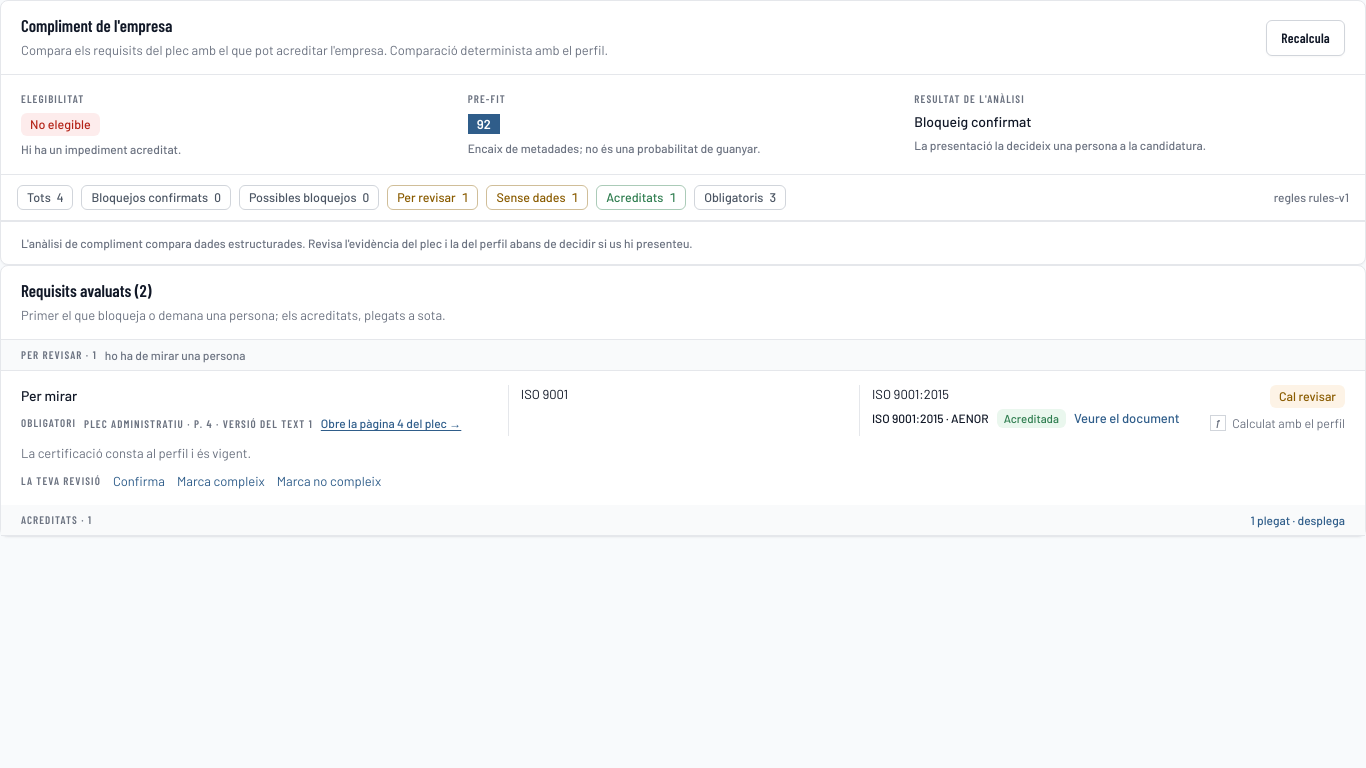
Test case: ComplianceSection · Pas 2: confirmats, possibles i revisions conservades › una confirmació que queda enrere perquè ara es compleix s'explica, però no compta ni es força a la vista
The width and height of the screenshot is (1366, 768).
expect the text "Ara es compleix" is not shown: met
Click the button "1 plegat · desplega".
click(1298, 520)  # box x1=1250 y1=511 x2=1345 y2=529
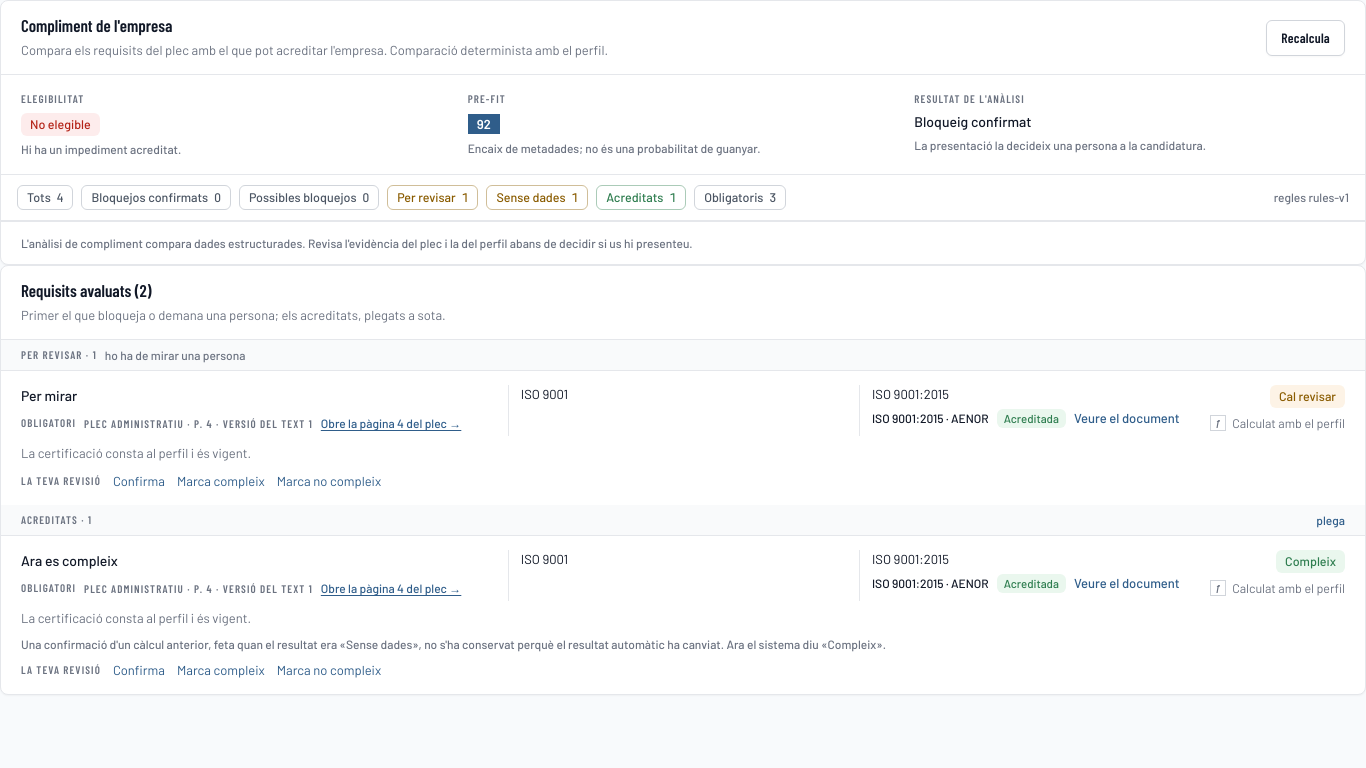
expect the text "Ara el sistema diu «Compleix»" is shown: met, box x1=21 y1=636 x2=886 y2=650
